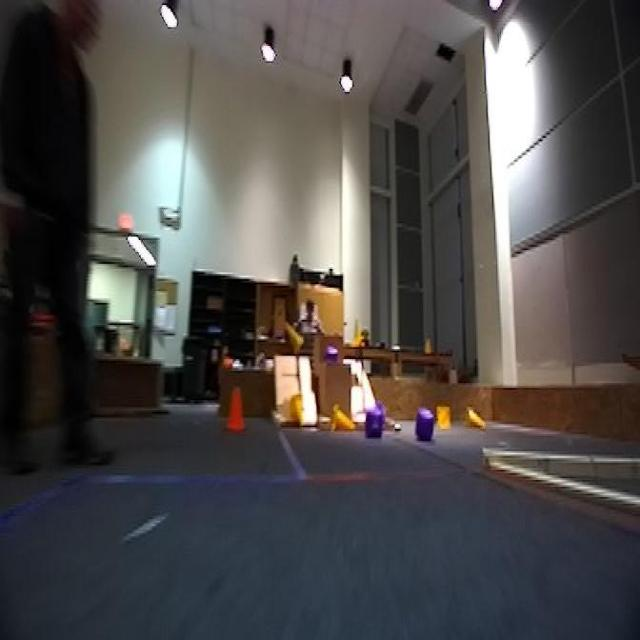frc_cone: (460, 404, 493, 439), (281, 313, 305, 358), (288, 393, 306, 431), (333, 405, 352, 429), (436, 403, 451, 429), (353, 318, 365, 349)
frc_cube: (414, 408, 436, 441), (366, 405, 384, 434), (324, 347, 341, 366)
